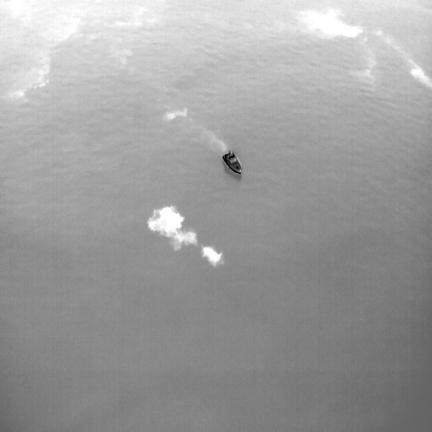flukeprints: (148, 206, 197, 250), (202, 246, 223, 266)
